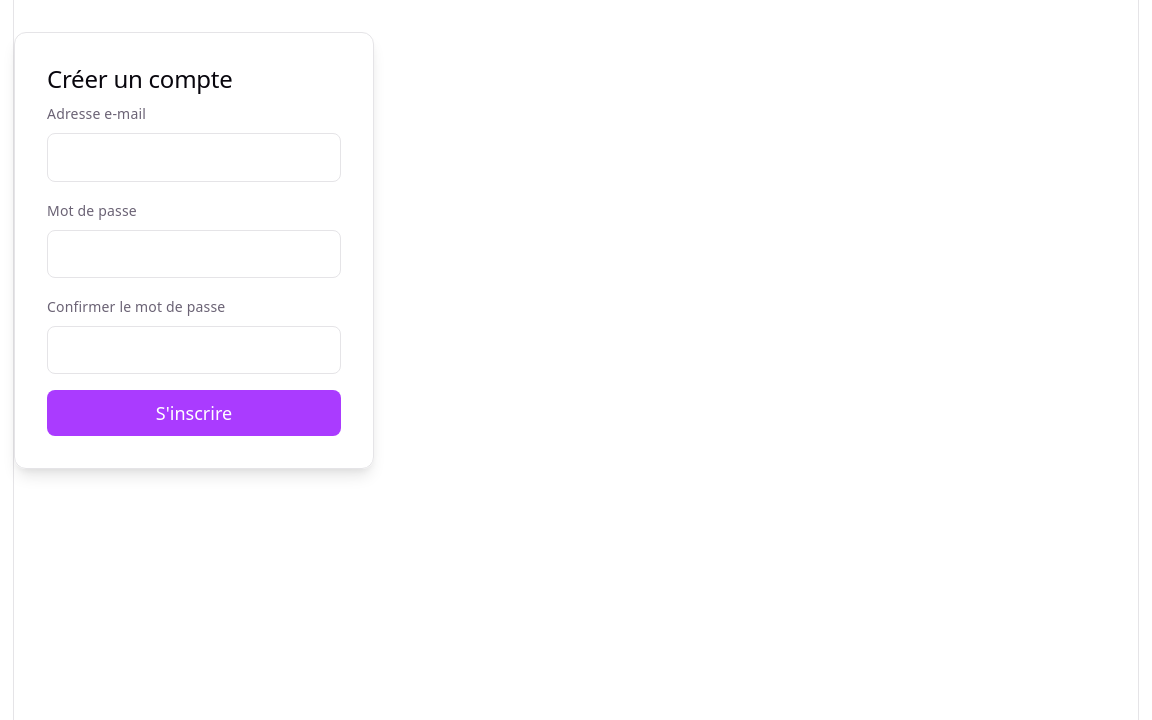
SignupForm › affiche une erreur si les mots de passe ne correspondent pas, sans appeler l'API
The image size is (1152, 720).
Type "nouvel.utilisateur@kanso.test" into the field labelled "Adresse e-mail" at [194, 157], box [47,133,341,182]
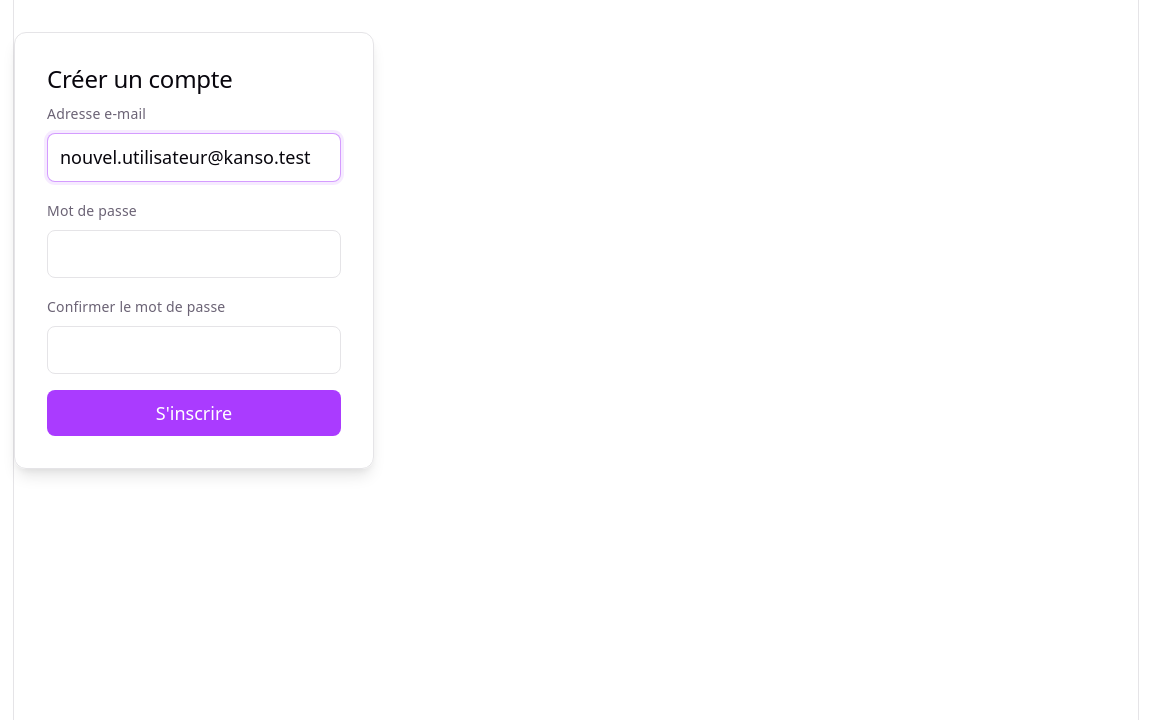
Type "motdepasse123" into the password field labelled "Mot de passe" at [194, 254], box [47,230,341,278]
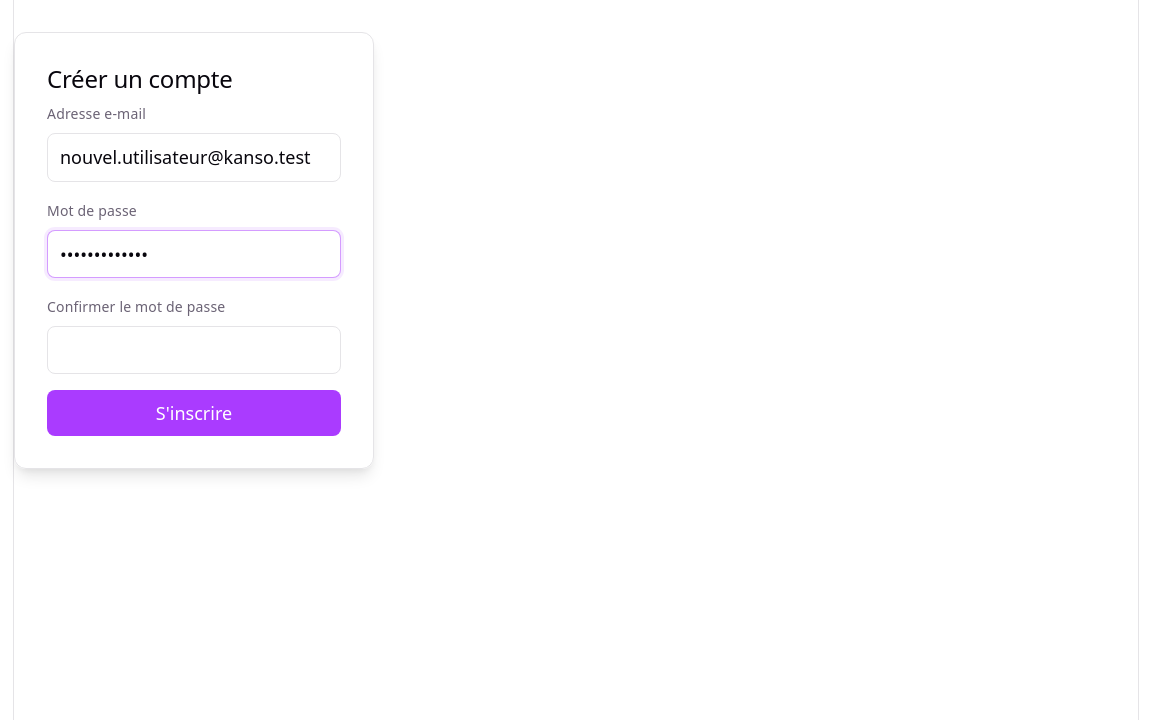
Type "autrechose" into the password field labelled "Confirmer le mot de passe" at [194, 350], box [47,326,341,374]
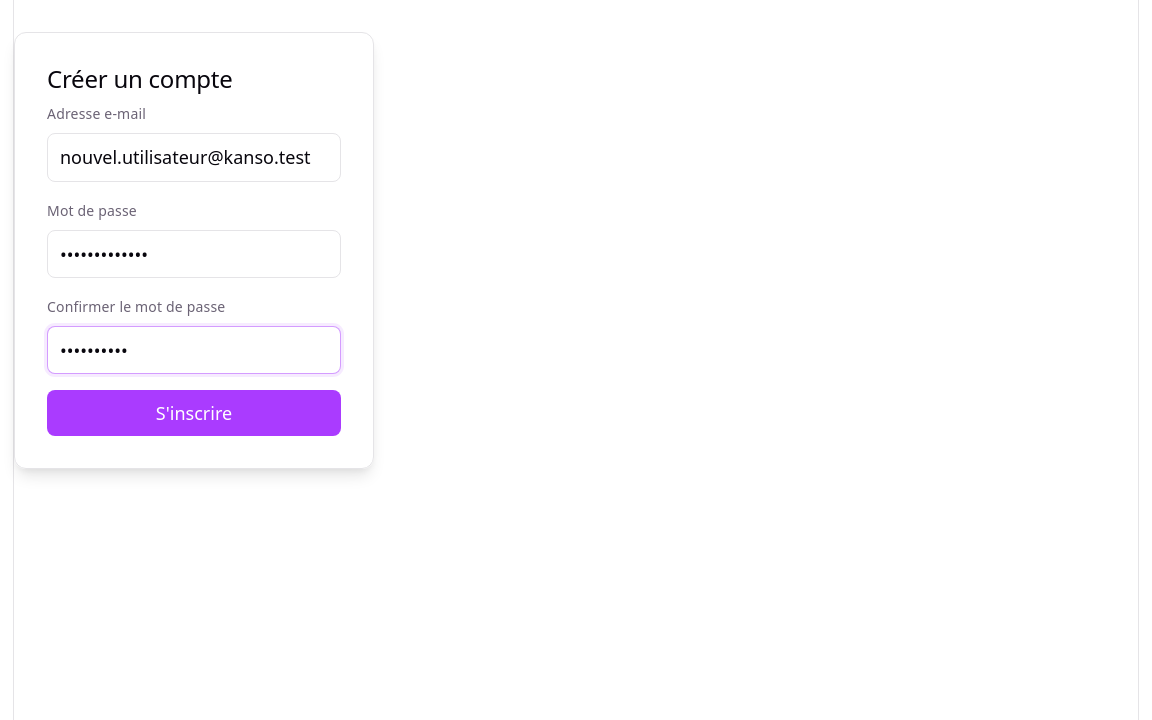
Click the button "S'inscrire" at [194, 413], box [47,390,341,436]
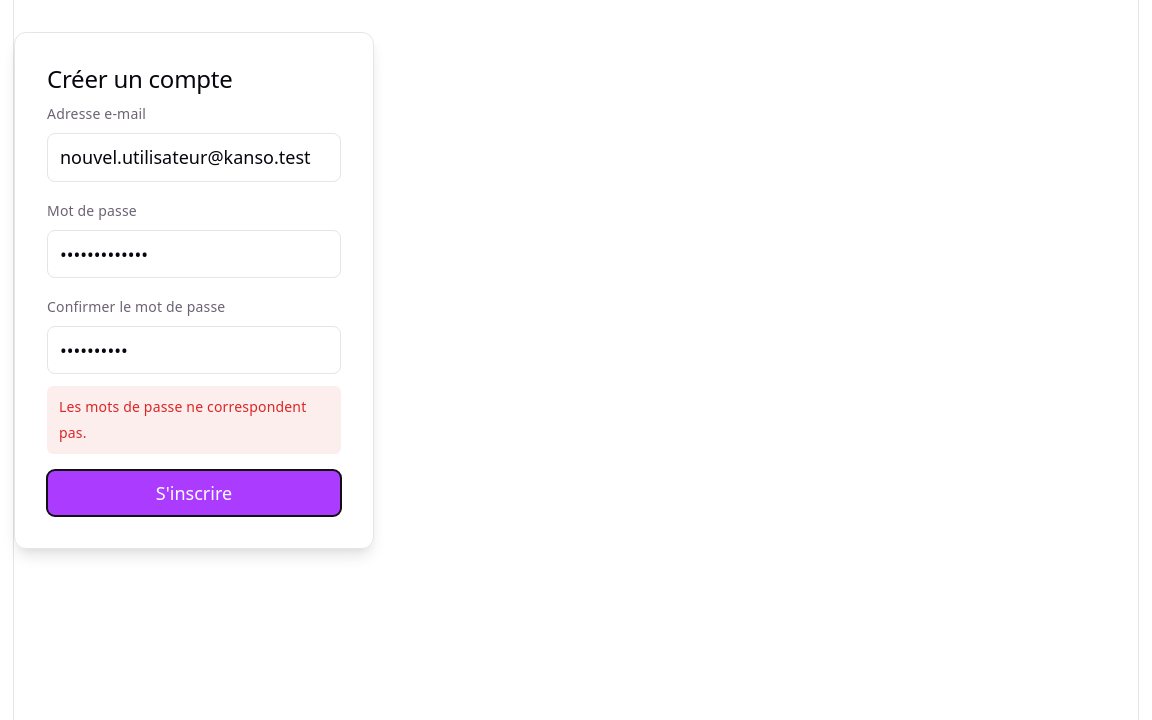
Expected: the text "Les mots de passe ne correspondent pas." is shown, [59,397,306,442]
